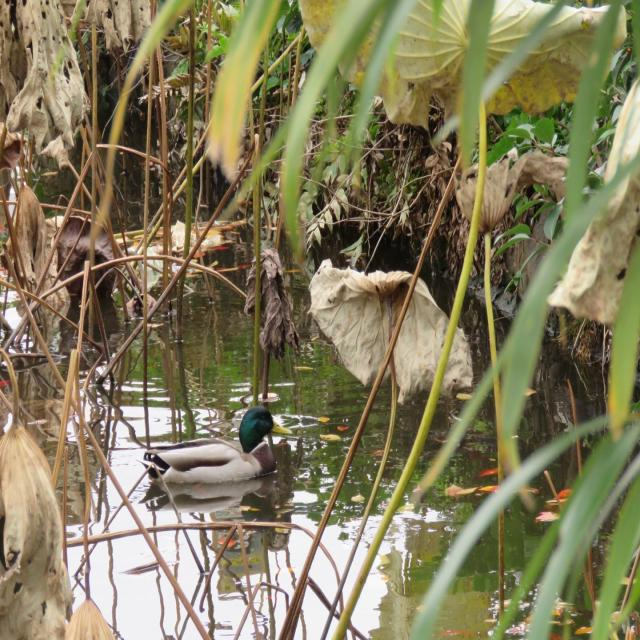bird: (122, 399, 301, 499), (589, 38, 640, 189)
